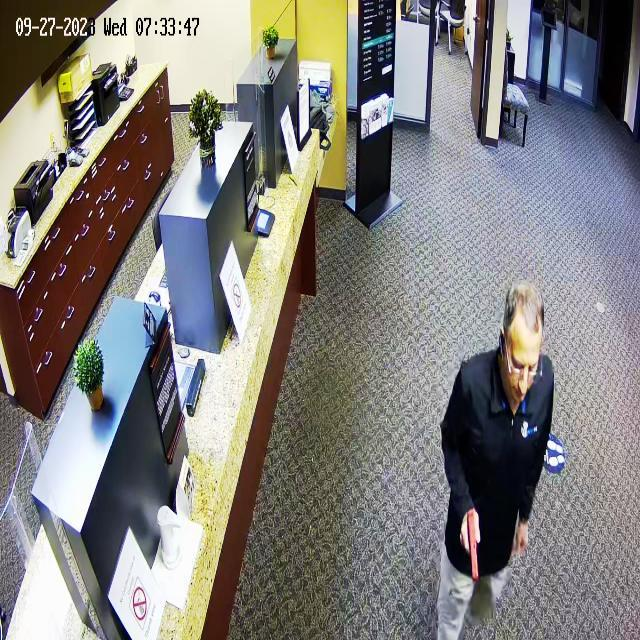Gun: (455, 499, 491, 596)
